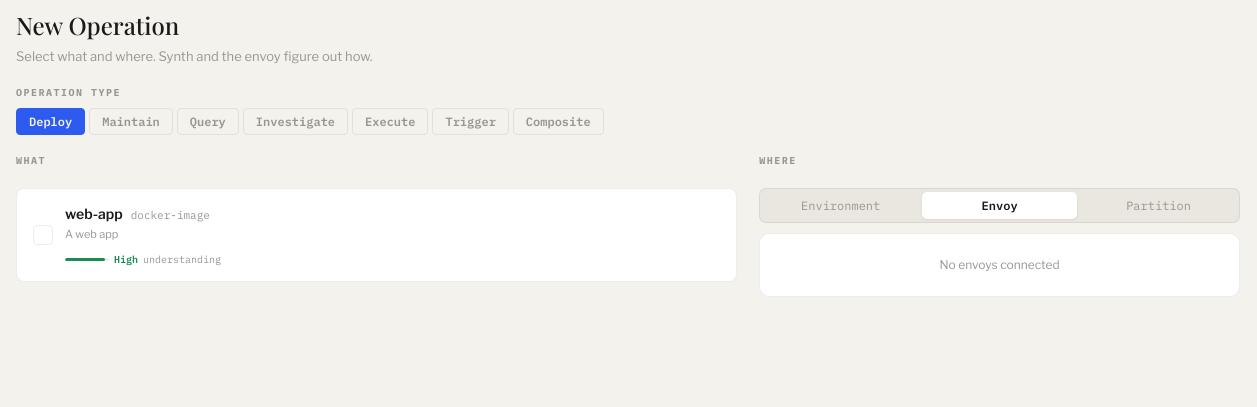
it: OperationAuthoringPanel › composite type › shows child operation builder with Add button
Click the button "composite": (558, 121) [513,108,604,134]
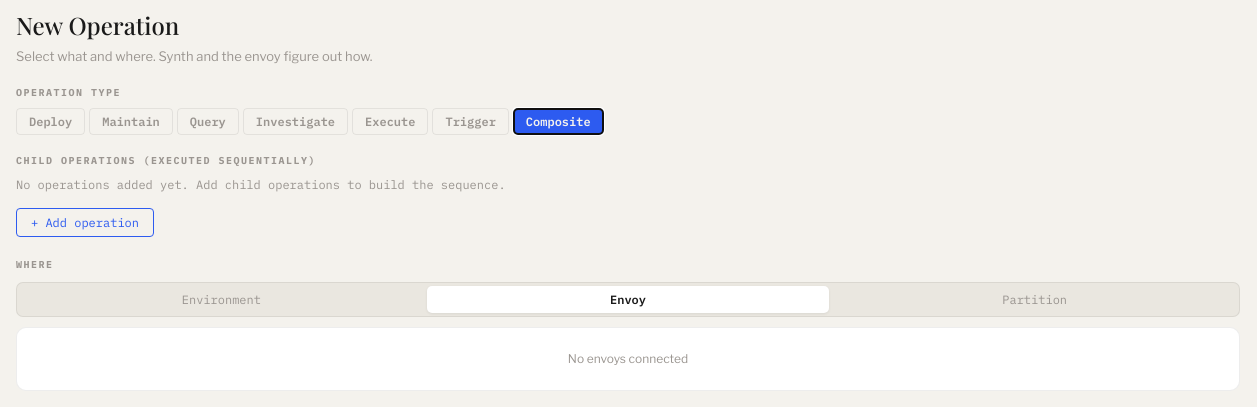
Check: the button "+ Add operation" is shown, box [16,208,154,236]
